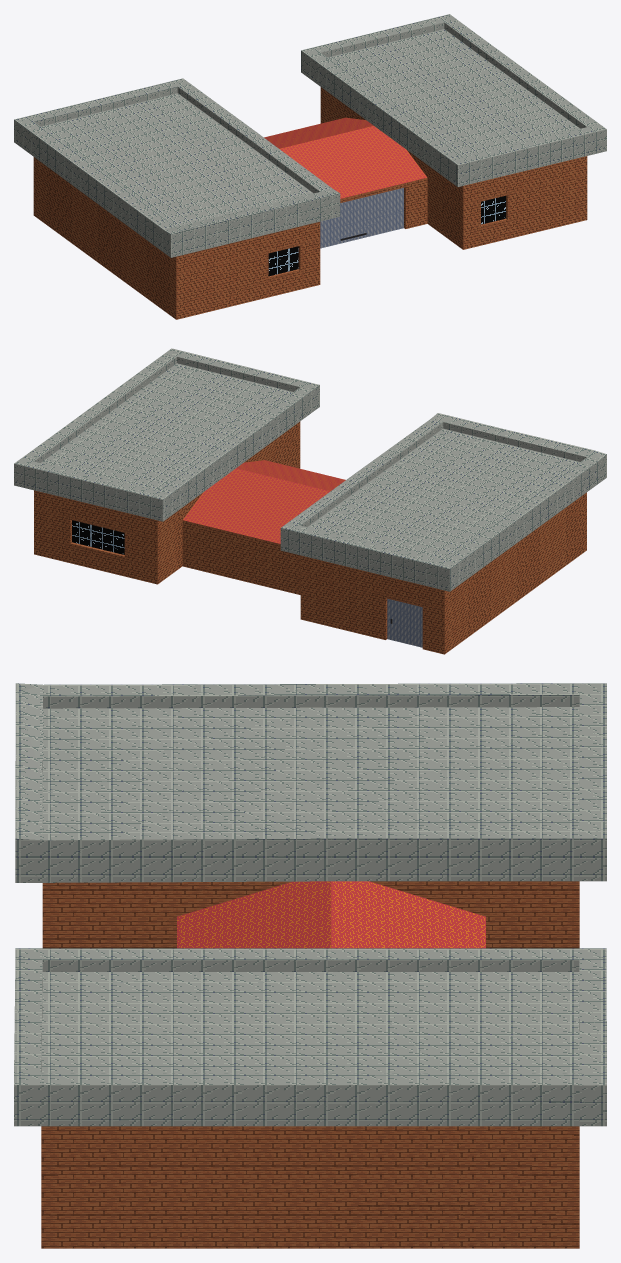
File: Casa.fbx
3 views of the same model, one above another, from view 1: azimuth 30°, elevation 25°; view 2: azimuth 150°, elevation 25°; view 3: azimuth 270°, elevation 25° (orthographic). The views are drawn at different scales.
Visible parts, largest first — view 1: Line001; view 2: Line001; view 3: Line001.
Boxes of the visible parts, <box> form: Line001: <box>14,14,606,319</box>; Line001: <box>14,348,606,654</box>; Line001: <box>14,683,606,1248</box>.
Bounding box in the file's own units: 2119 × 439 × 1326.
9 materials, 7 textured.
